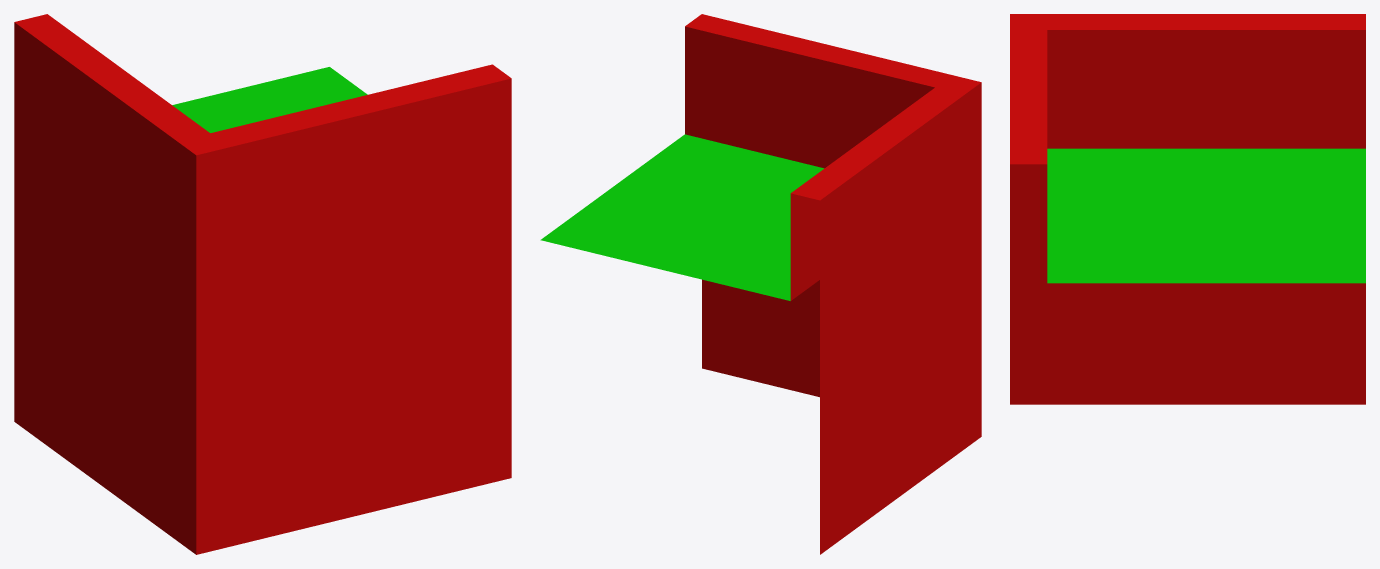
3 renders of one model, left to right at view 1: azimuth 30°, elevation 25°; view 2: azimuth 150°, elevation 25°; view 3: azimuth 270°, elevation 25°, orthographic. The views are drawn at different scales.
Visible parts, largest first — view 1: None_W_E_E_E_E_E_E_E_None; view 2: None_W_E_E_E_E_E_E_E_None; view 3: None_W_E_E_E_E_E_E_E_None.
Part boxes in pixels (x1,y1,x2,y2): None_W_E_E_E_E_E_E_E_None: (14, 14, 511, 554); None_W_E_E_E_E_E_E_E_None: (540, 14, 981, 554); None_W_E_E_E_E_E_E_E_None: (1010, 14, 1365, 404).
Size of the model in its own units: 59.38 by 71.88 by 59.38.
